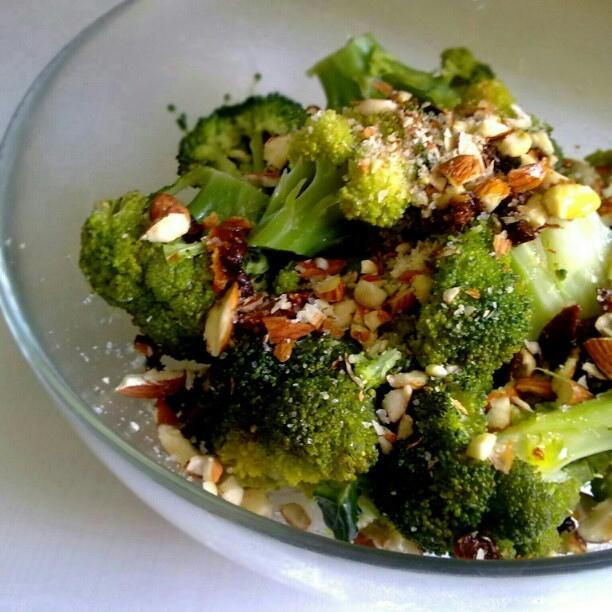almond: (537, 304, 582, 372), (204, 282, 240, 356), (116, 368, 187, 399), (138, 204, 190, 242), (507, 156, 550, 194), (470, 174, 510, 214), (261, 316, 316, 344), (440, 154, 482, 188), (584, 338, 612, 382), (262, 132, 294, 170), (382, 384, 413, 422), (310, 274, 348, 302), (354, 278, 387, 310), (486, 394, 512, 434), (516, 377, 557, 402), (386, 370, 428, 390), (156, 398, 176, 425), (360, 328, 377, 350)
broccoli: (369, 366, 612, 560), (172, 320, 402, 487), (247, 109, 414, 258), (410, 218, 536, 375), (304, 31, 473, 116), (510, 212, 612, 342), (78, 190, 163, 328), (198, 91, 308, 173), (155, 164, 272, 224), (144, 240, 220, 318), (450, 62, 494, 89)
